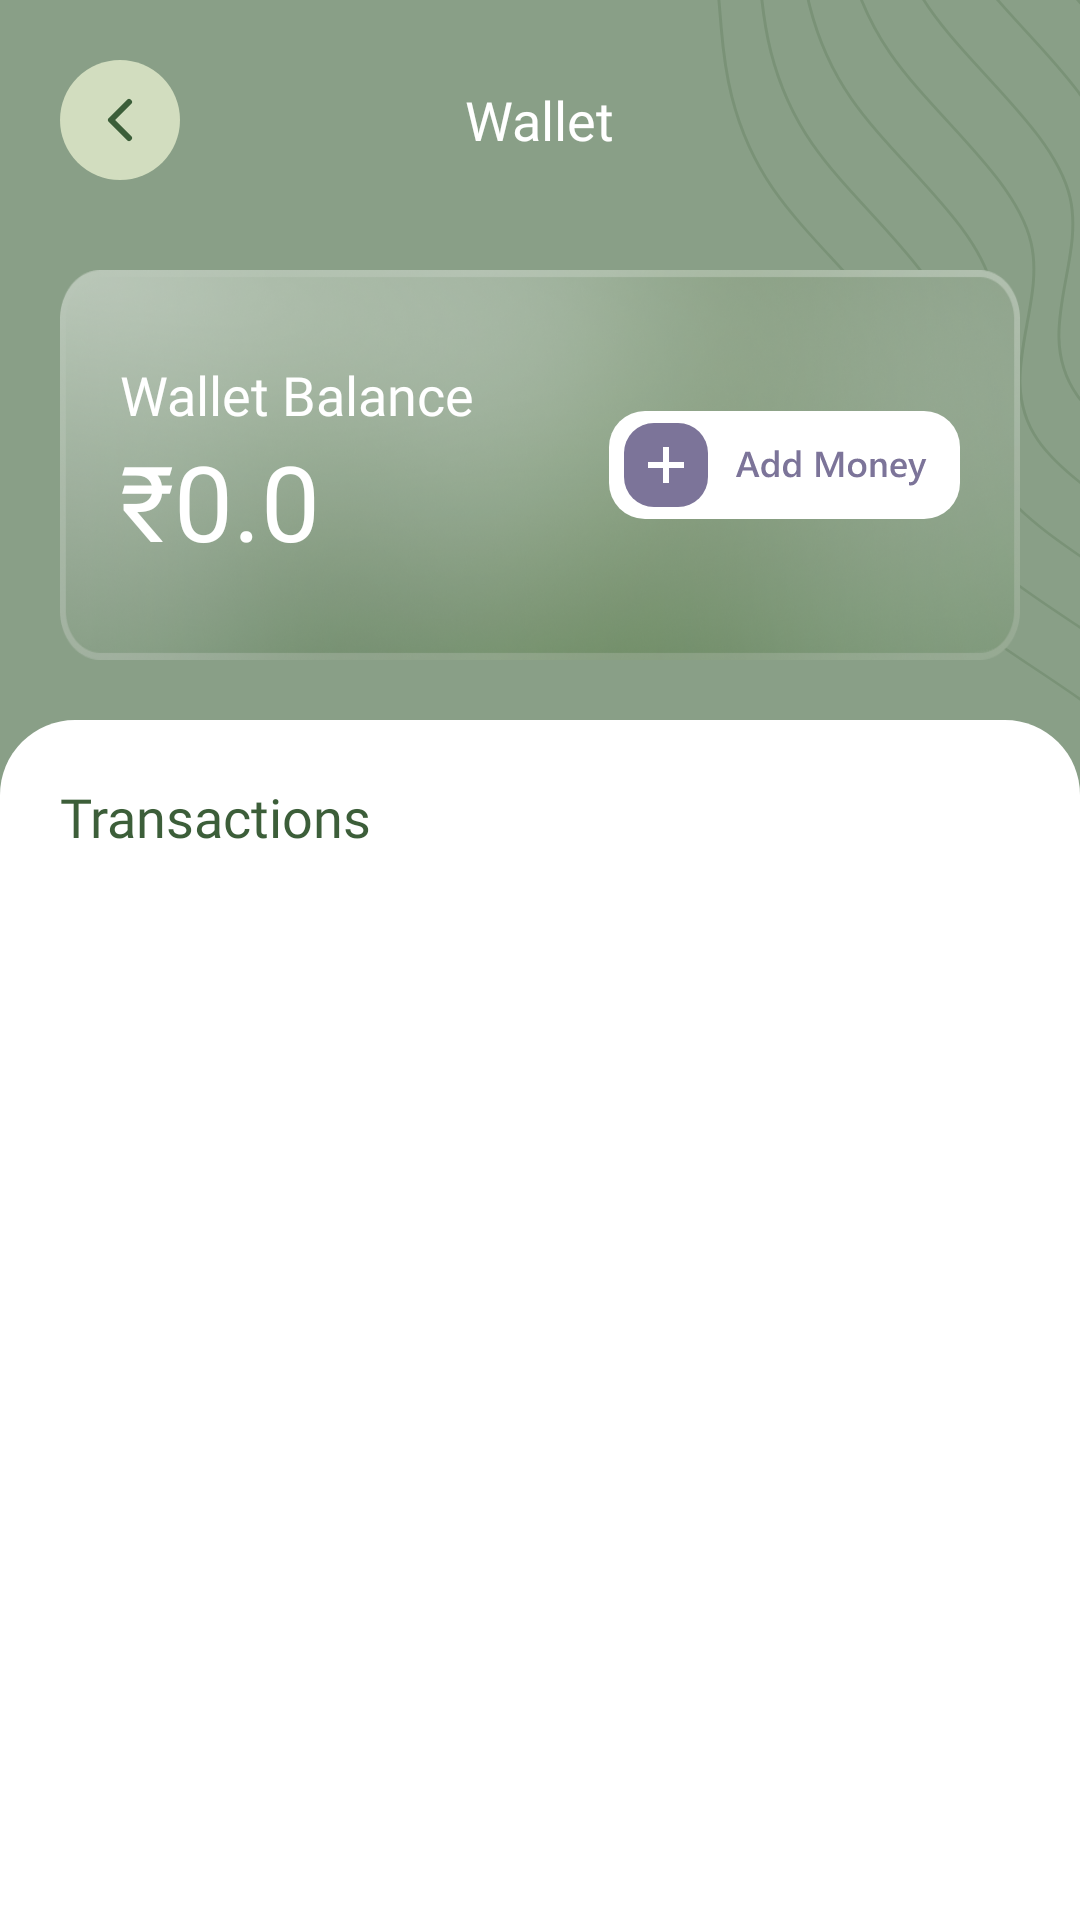

Screen size 1080px x 1920px. Icon name, then its box in pixels as (x1, y1, x2, y2):
back arrow: (60, 60, 180, 180)
